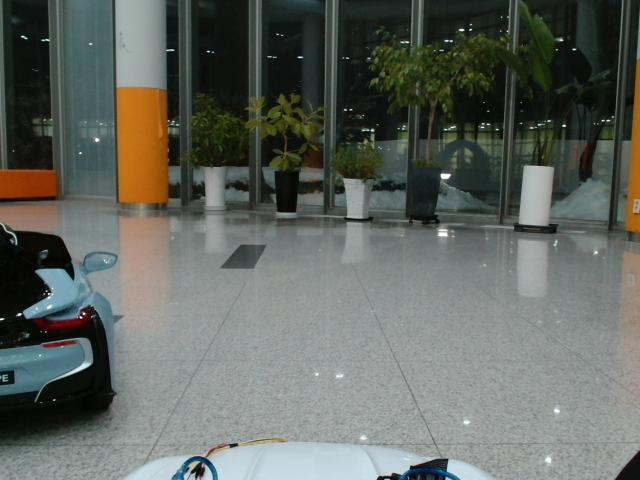car: (1, 223, 119, 435)
